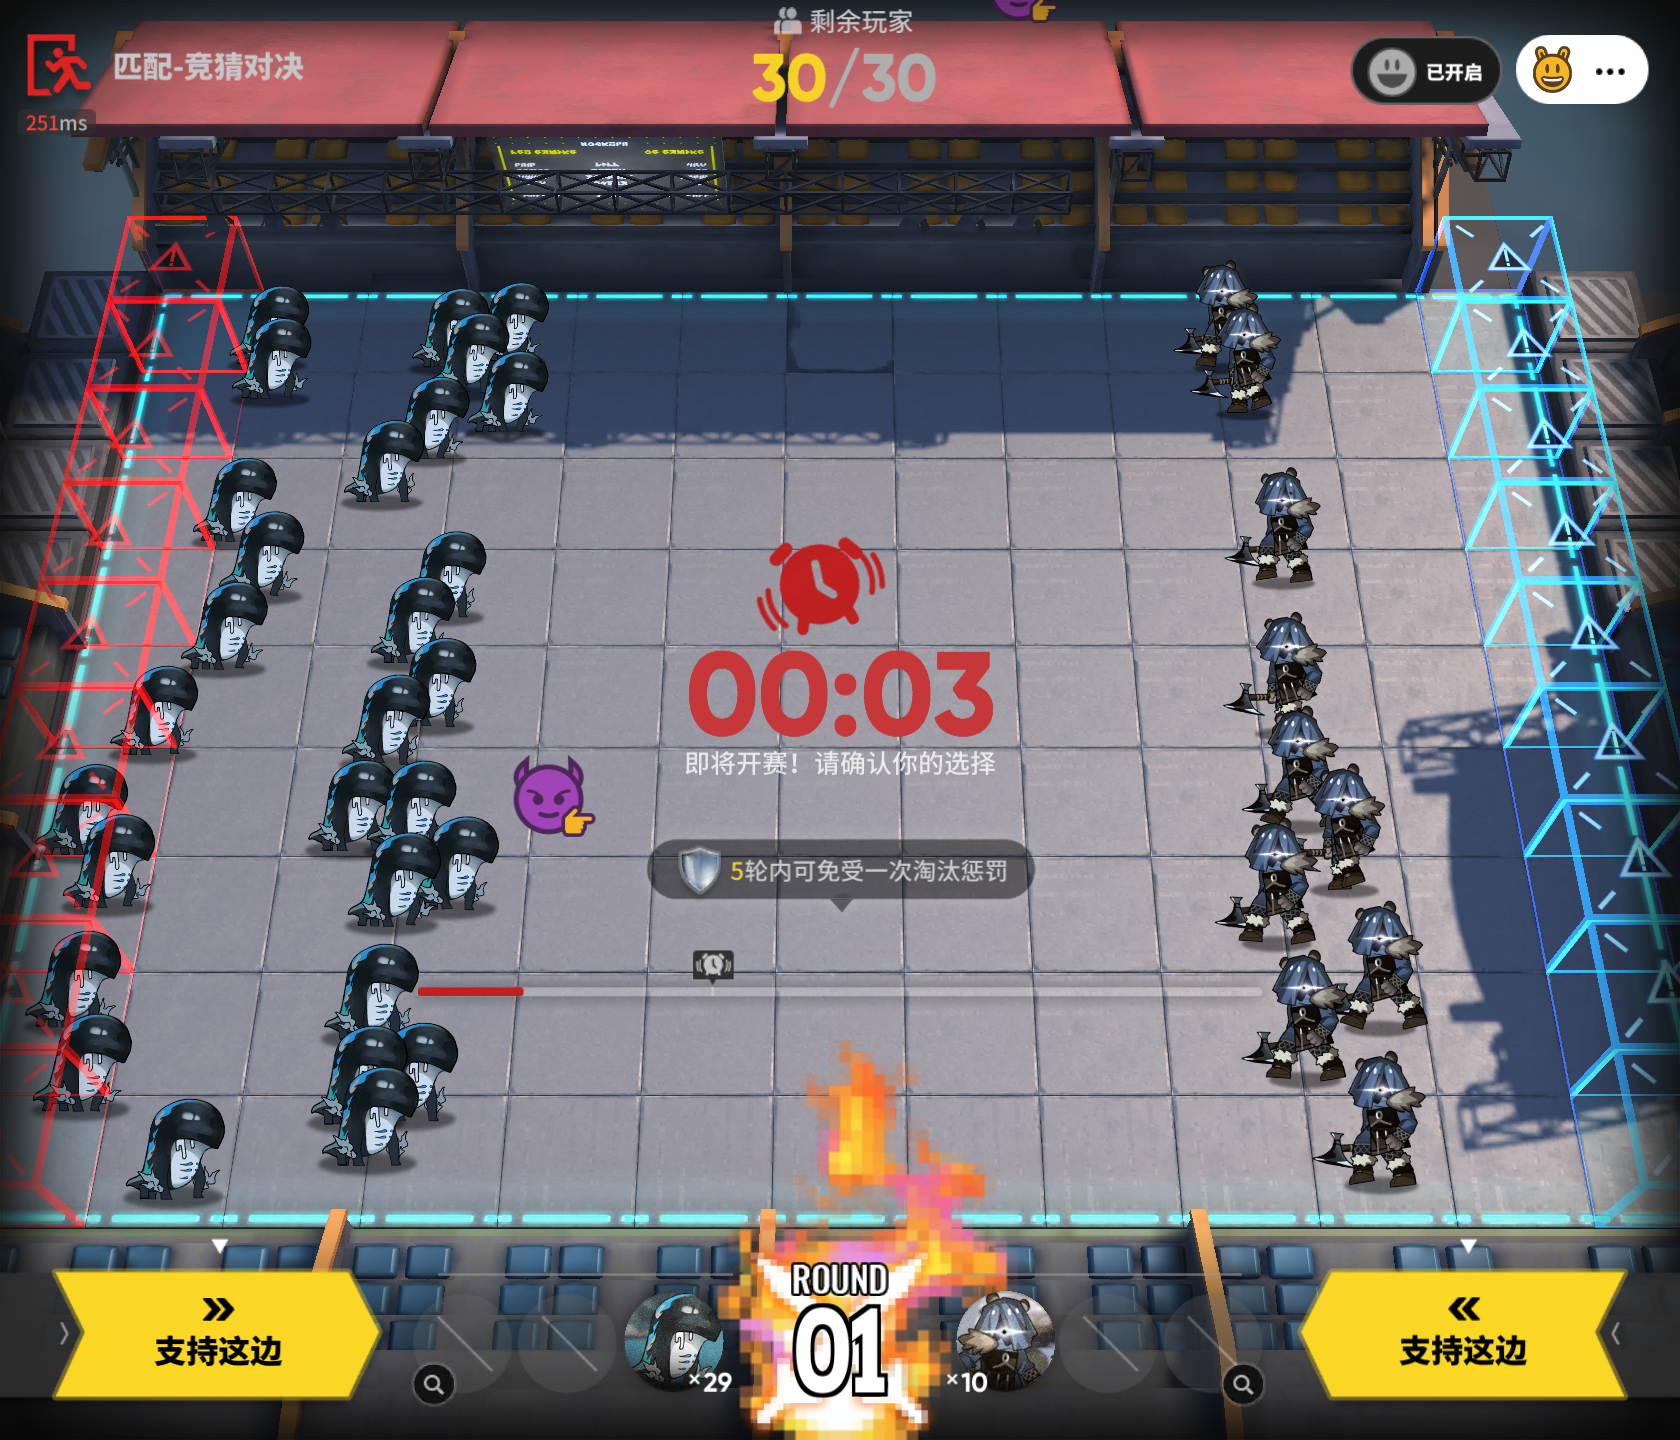奔跑吧！躯壳！: (1229, 819, 1329, 953), (1336, 1060, 1433, 1194), (1250, 951, 1349, 1080), (1334, 899, 1429, 1030), (1304, 750, 1396, 883), (956, 1281, 1064, 1391), (1239, 704, 1339, 823), (1234, 613, 1333, 727), (1234, 467, 1324, 580), (1211, 313, 1296, 426), (1191, 260, 1266, 360)
清醒的墨魉: (619, 1284, 731, 1397), (26, 923, 129, 1030), (126, 1099, 226, 1200), (321, 1067, 419, 1167), (43, 1010, 133, 1117), (324, 943, 419, 1039), (347, 831, 441, 926), (63, 814, 156, 909), (341, 674, 430, 767), (109, 664, 199, 754), (180, 579, 269, 670), (41, 763, 129, 854), (309, 760, 394, 851), (330, 1021, 409, 1114), (370, 577, 454, 663), (191, 457, 277, 541), (467, 351, 549, 434), (343, 420, 424, 503), (227, 511, 304, 596), (431, 814, 499, 910), (233, 319, 311, 399), (411, 289, 489, 367), (409, 637, 476, 727), (419, 530, 486, 619), (399, 1023, 459, 1121), (384, 760, 456, 839), (404, 374, 470, 459), (441, 311, 509, 389), (246, 283, 313, 353), (489, 281, 549, 353)
